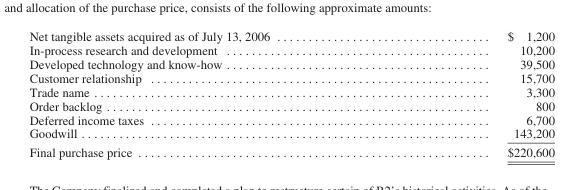table: (28, 28, 553, 159)
table column: (28, 28, 387, 159), (387, 28, 553, 159)
table row: (28, 142, 553, 159), (28, 126, 553, 142), (28, 28, 553, 42), (28, 42, 553, 56), (28, 56, 553, 70), (28, 70, 553, 84), (28, 84, 553, 98), (28, 98, 553, 112), (28, 112, 553, 126)
